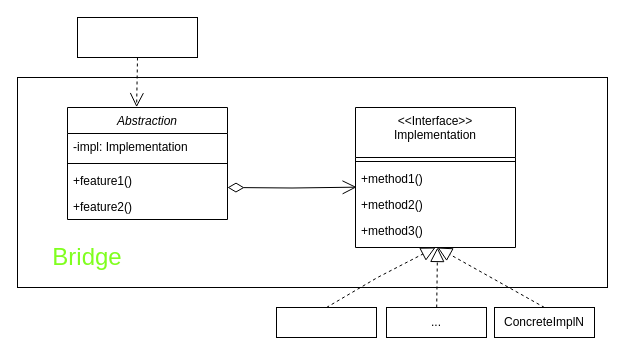
The diagram is 625 pixels wide and 355 high, and some of its shapes have lost their labels. The shapes that lost their labels are listed below. From the top down, each one's centre as x and y in pixels, then its label:
At point (137, 37): "Client".
At point (326, 322): "ConcreteImpl1".
